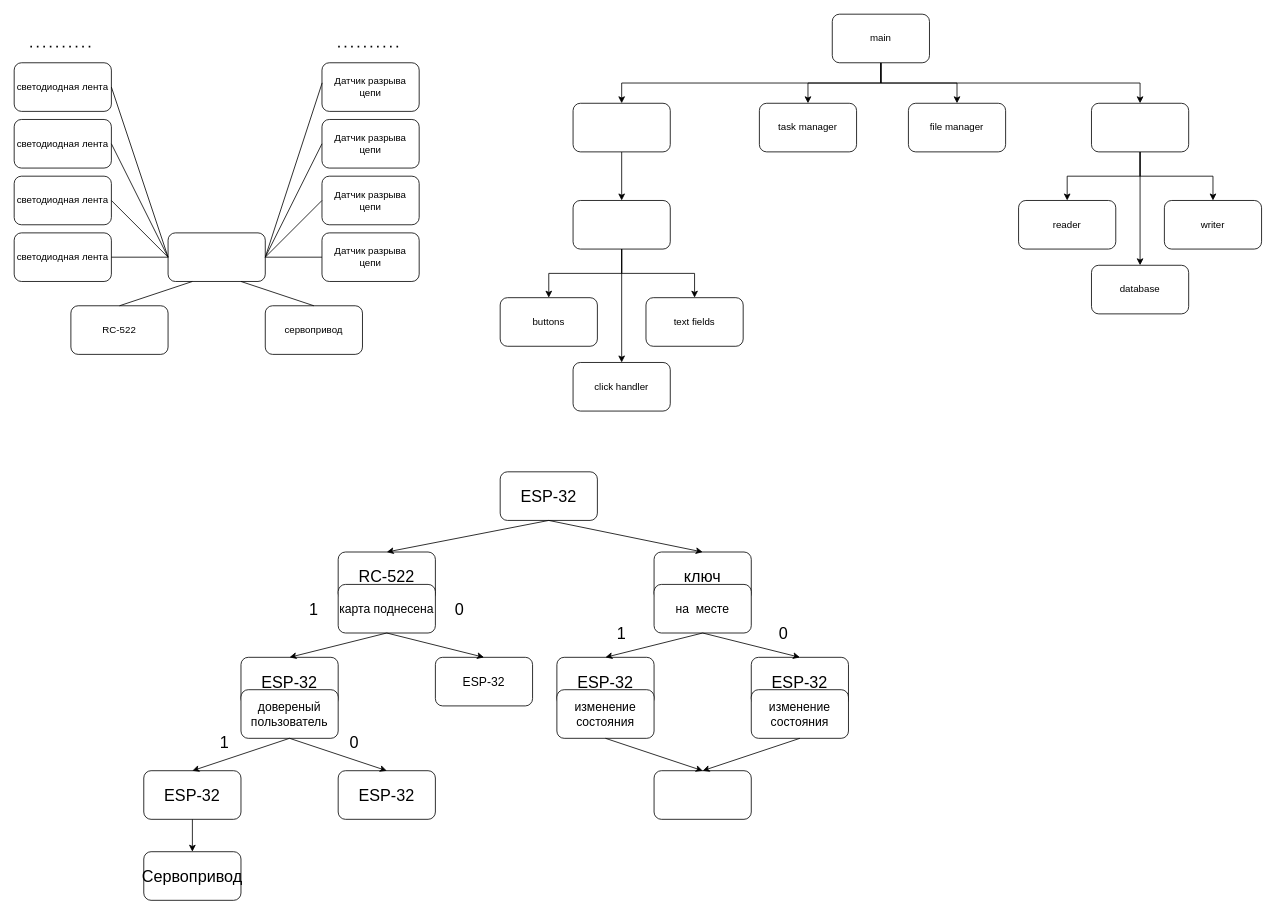
Some shapes in this 1276 by 914 pixel diagram are drawn without their labels. The centre of each missing label's shape, as x and y in pixels:
"ESP32" goes at [216,256].
"parser" goes at [1140,127].
"UI" goes at [621,127].
"windows" goes at [621,224].
"постоянная память" goes at [702,794].
